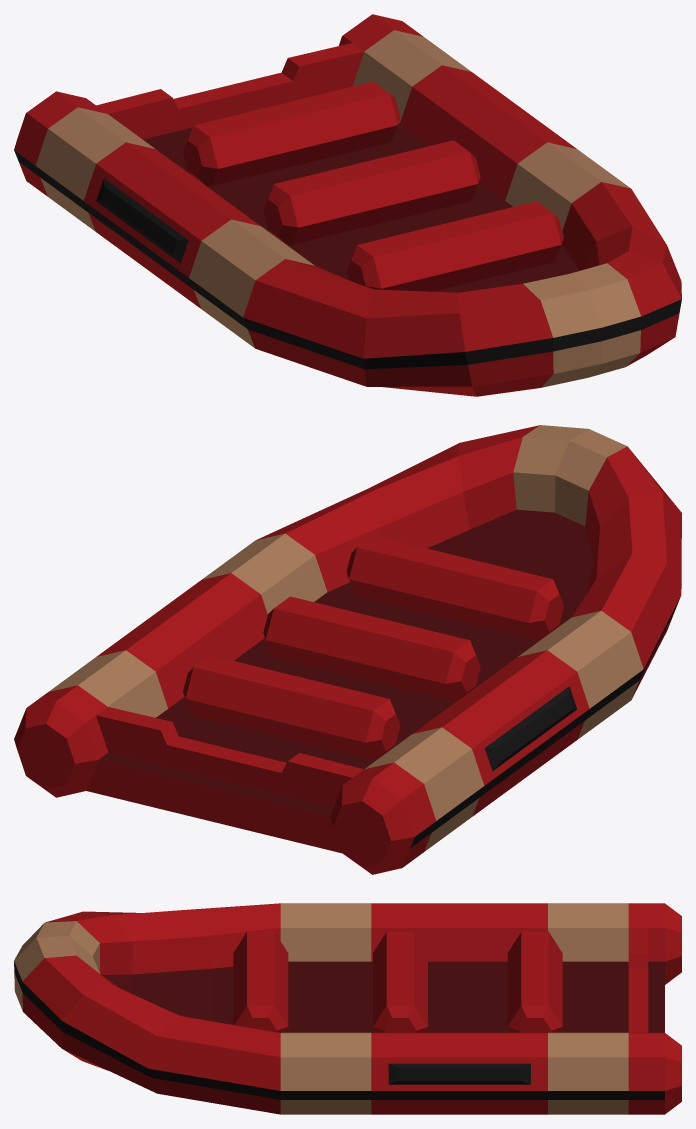
The model's file is Lifeboat.obj.
The picture shows the model from 3 angles, top to bottom: view 1: azimuth 30°, elevation 25°; view 2: azimuth 150°, elevation 25°; view 3: azimuth 270°, elevation 25°; orthographic projection. The views are drawn at different scales.
Visible parts, largest first — view 1: Lifeboat_Cylinder; view 2: Lifeboat_Cylinder; view 3: Lifeboat_Cylinder.
Part boxes in pixels (x1,y1,x2,y2): Lifeboat_Cylinder: [14, 14, 681, 396]; Lifeboat_Cylinder: [14, 425, 681, 874]; Lifeboat_Cylinder: [14, 903, 681, 1114].
Bounding box in the file's own units: 0.6471 × 0.209 × 1.11.
